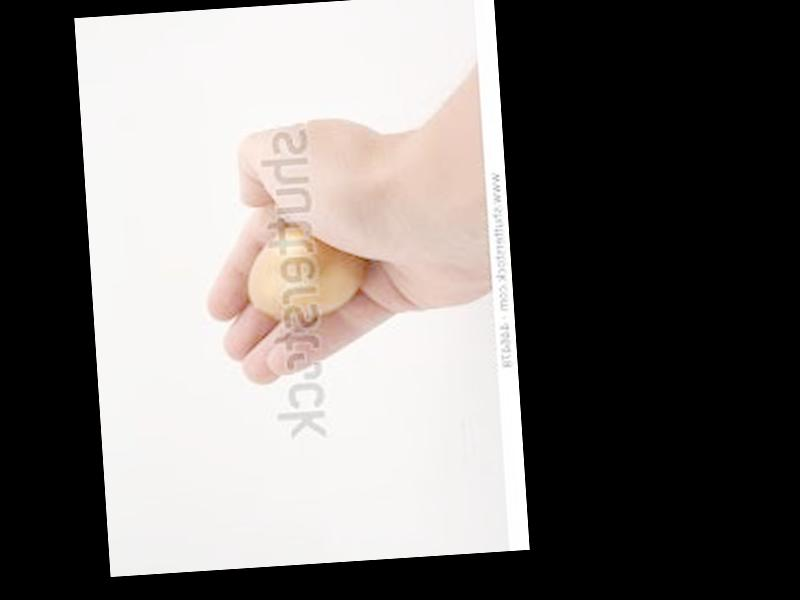Eggs: (245, 226, 364, 321)
